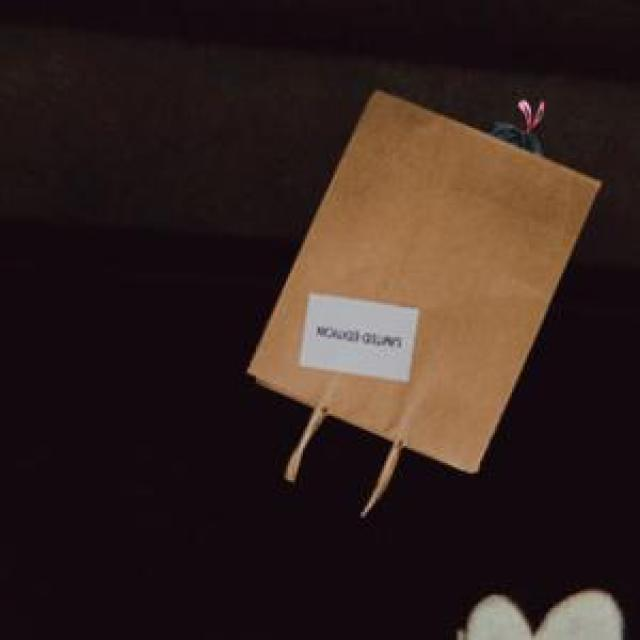miscellaneous trash: (482, 120, 539, 154)
paper: (243, 88, 595, 512)
